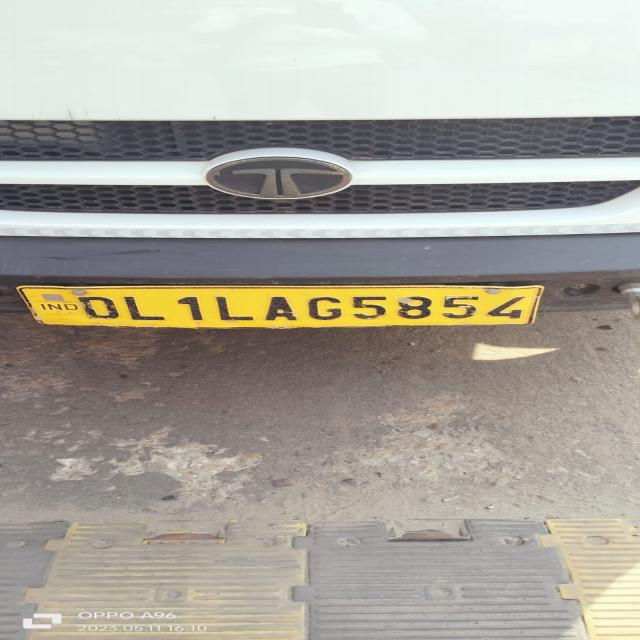License-plate: (24, 283, 544, 325)
